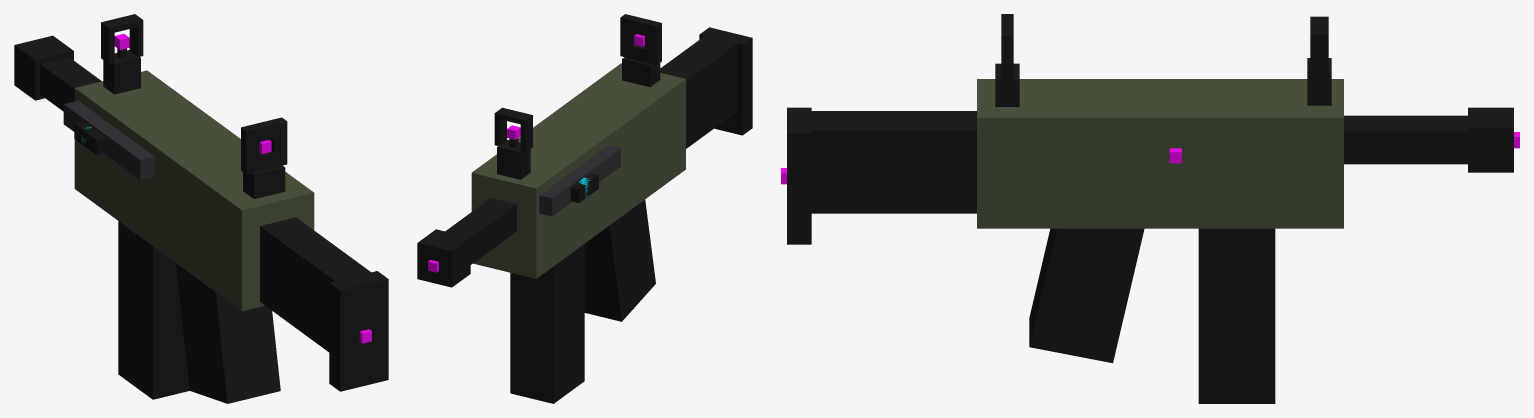
The model's file is SMG.obj.
3 views of the same model, side by side, from view 1: azimuth 30°, elevation 25°; view 2: azimuth 150°, elevation 25°; view 3: azimuth 270°, elevation 25° (orthographic). The views are drawn at different scales.
Visible parts, largest first — view 1: Skin_Body, Magazine, Grip, Skin_Stock, StockPad, BoltTube, Muzzle, Barrel, FrontBase, RearBase, RearL, RearR (+4 smaller); view 2: Skin_Body, Magazine, Grip, Skin_Stock, Muzzle, Barrel, StockPad, BoltTube, FrontBase, RearBase, RearL, RearR (+4 smaller); view 3: Skin_Body, Skin_Stock, Magazine, Grip, Barrel, StockPad, Muzzle, FrontBase, RearBase, RearR, HoodR.
Part boxes in pixels (x1=…): Skin_Body: x1=74, y1=70, x2=314, y2=311; Magazine: x1=118, y1=221, x2=189, y2=399; Grip: x1=176, y1=263, x2=280, y2=403; Skin_Stock: x1=260, y1=217, x2=372, y2=351; StockPad: x1=329, y1=271, x2=388, y2=391; BoltTube: x1=63, y1=101, x2=154, y2=180; Muzzle: x1=14, y1=35, x2=73, y2=100; Barrel: x1=40, y1=57, x2=101, y2=111; FrontBase: x1=103, y1=50, x2=140, y2=94; RearBase: x1=243, y1=165, x2=285, y2=198; RearL: x1=241, y1=124, x2=259, y2=174; RearR: x1=269, y1=117, x2=287, y2=167; Skin_Body: x1=471, y1=63, x2=685, y2=278; Magazine: x1=510, y1=244, x2=584, y2=403; Grip: x1=584, y1=199, x2=655, y2=321; Skin_Stock: x1=660, y1=35, x2=737, y2=148; Muzzle: x1=417, y1=229, x2=470, y2=287; Barrel: x1=445, y1=198, x2=516, y2=264; StockPad: x1=699, y1=27, x2=752, y2=135; BoltTube: x1=539, y1=145, x2=620, y2=216; FrontBase: x1=497, y1=139, x2=530, y2=179; RearBase: x1=622, y1=57, x2=660, y2=86; RearL: x1=645, y1=20, x2=661, y2=64; RearR: x1=620, y1=14, x2=636, y2=58; Skin_Body: x1=977, y1=79, x2=1343, y2=228; Skin_Stock: x1=811, y1=111, x2=976, y2=213; Magazine: x1=1198, y1=228, x2=1275, y2=403; Grip: x1=1029, y1=228, x2=1144, y2=363; Barrel: x1=1344, y1=115, x2=1467, y2=164; StockPad: x1=787, y1=107, x2=811, y2=244; Muzzle: x1=1468, y1=107, x2=1513, y2=172; FrontBase: x1=1307, y1=58, x2=1331, y2=105; RearBase: x1=995, y1=63, x2=1019, y2=106; RearR: x1=1001, y1=29, x2=1013, y2=82; HoodR: x1=1310, y1=41, x2=1328, y2=74.
Bounding box in the file's own units: 0.43 × 1.32 × 2.41.
